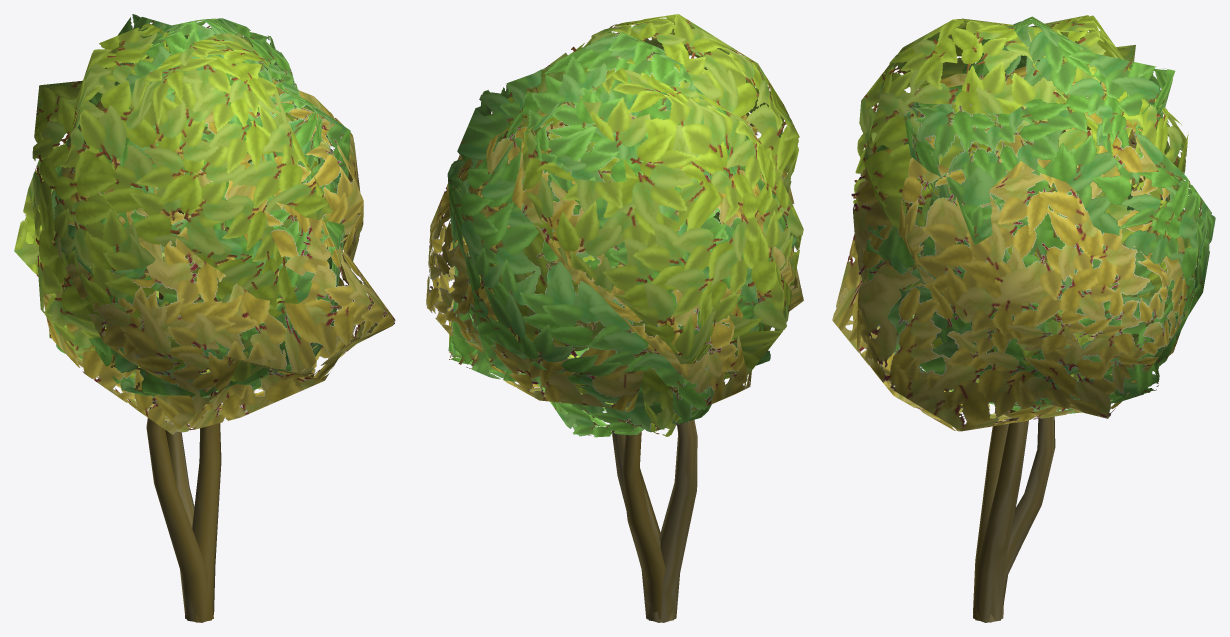
Rendered from UsTree.fbx.
The picture shows the model from 3 angles, left to right: view 1: azimuth 30°, elevation 25°; view 2: azimuth 150°, elevation 25°; view 3: azimuth 270°, elevation 25°; orthographic projection. The views are drawn at different scales.
Parts seen in each view (by area): view 1: UsTree_01, UsTree_02, UsTree_03; view 2: UsTree_01, UsTree_03, UsTree_02; view 3: UsTree_02, UsTree_03, UsTree_01.
Part boxes in pixels (x1,y1,x2,y2): UsTree_01: (14, 23, 332, 622); UsTree_02: (39, 52, 395, 622); UsTree_03: (49, 14, 350, 527); UsTree_01: (479, 14, 803, 622); UsTree_03: (447, 32, 797, 619); UsTree_02: (426, 74, 803, 622); UsTree_02: (832, 61, 1187, 622); UsTree_03: (866, 16, 1215, 613); UsTree_01: (853, 15, 1194, 622).
Bounding box in the file's own units: 238 × 407 × 234.
Materials: 1 (1 with a texture image).
